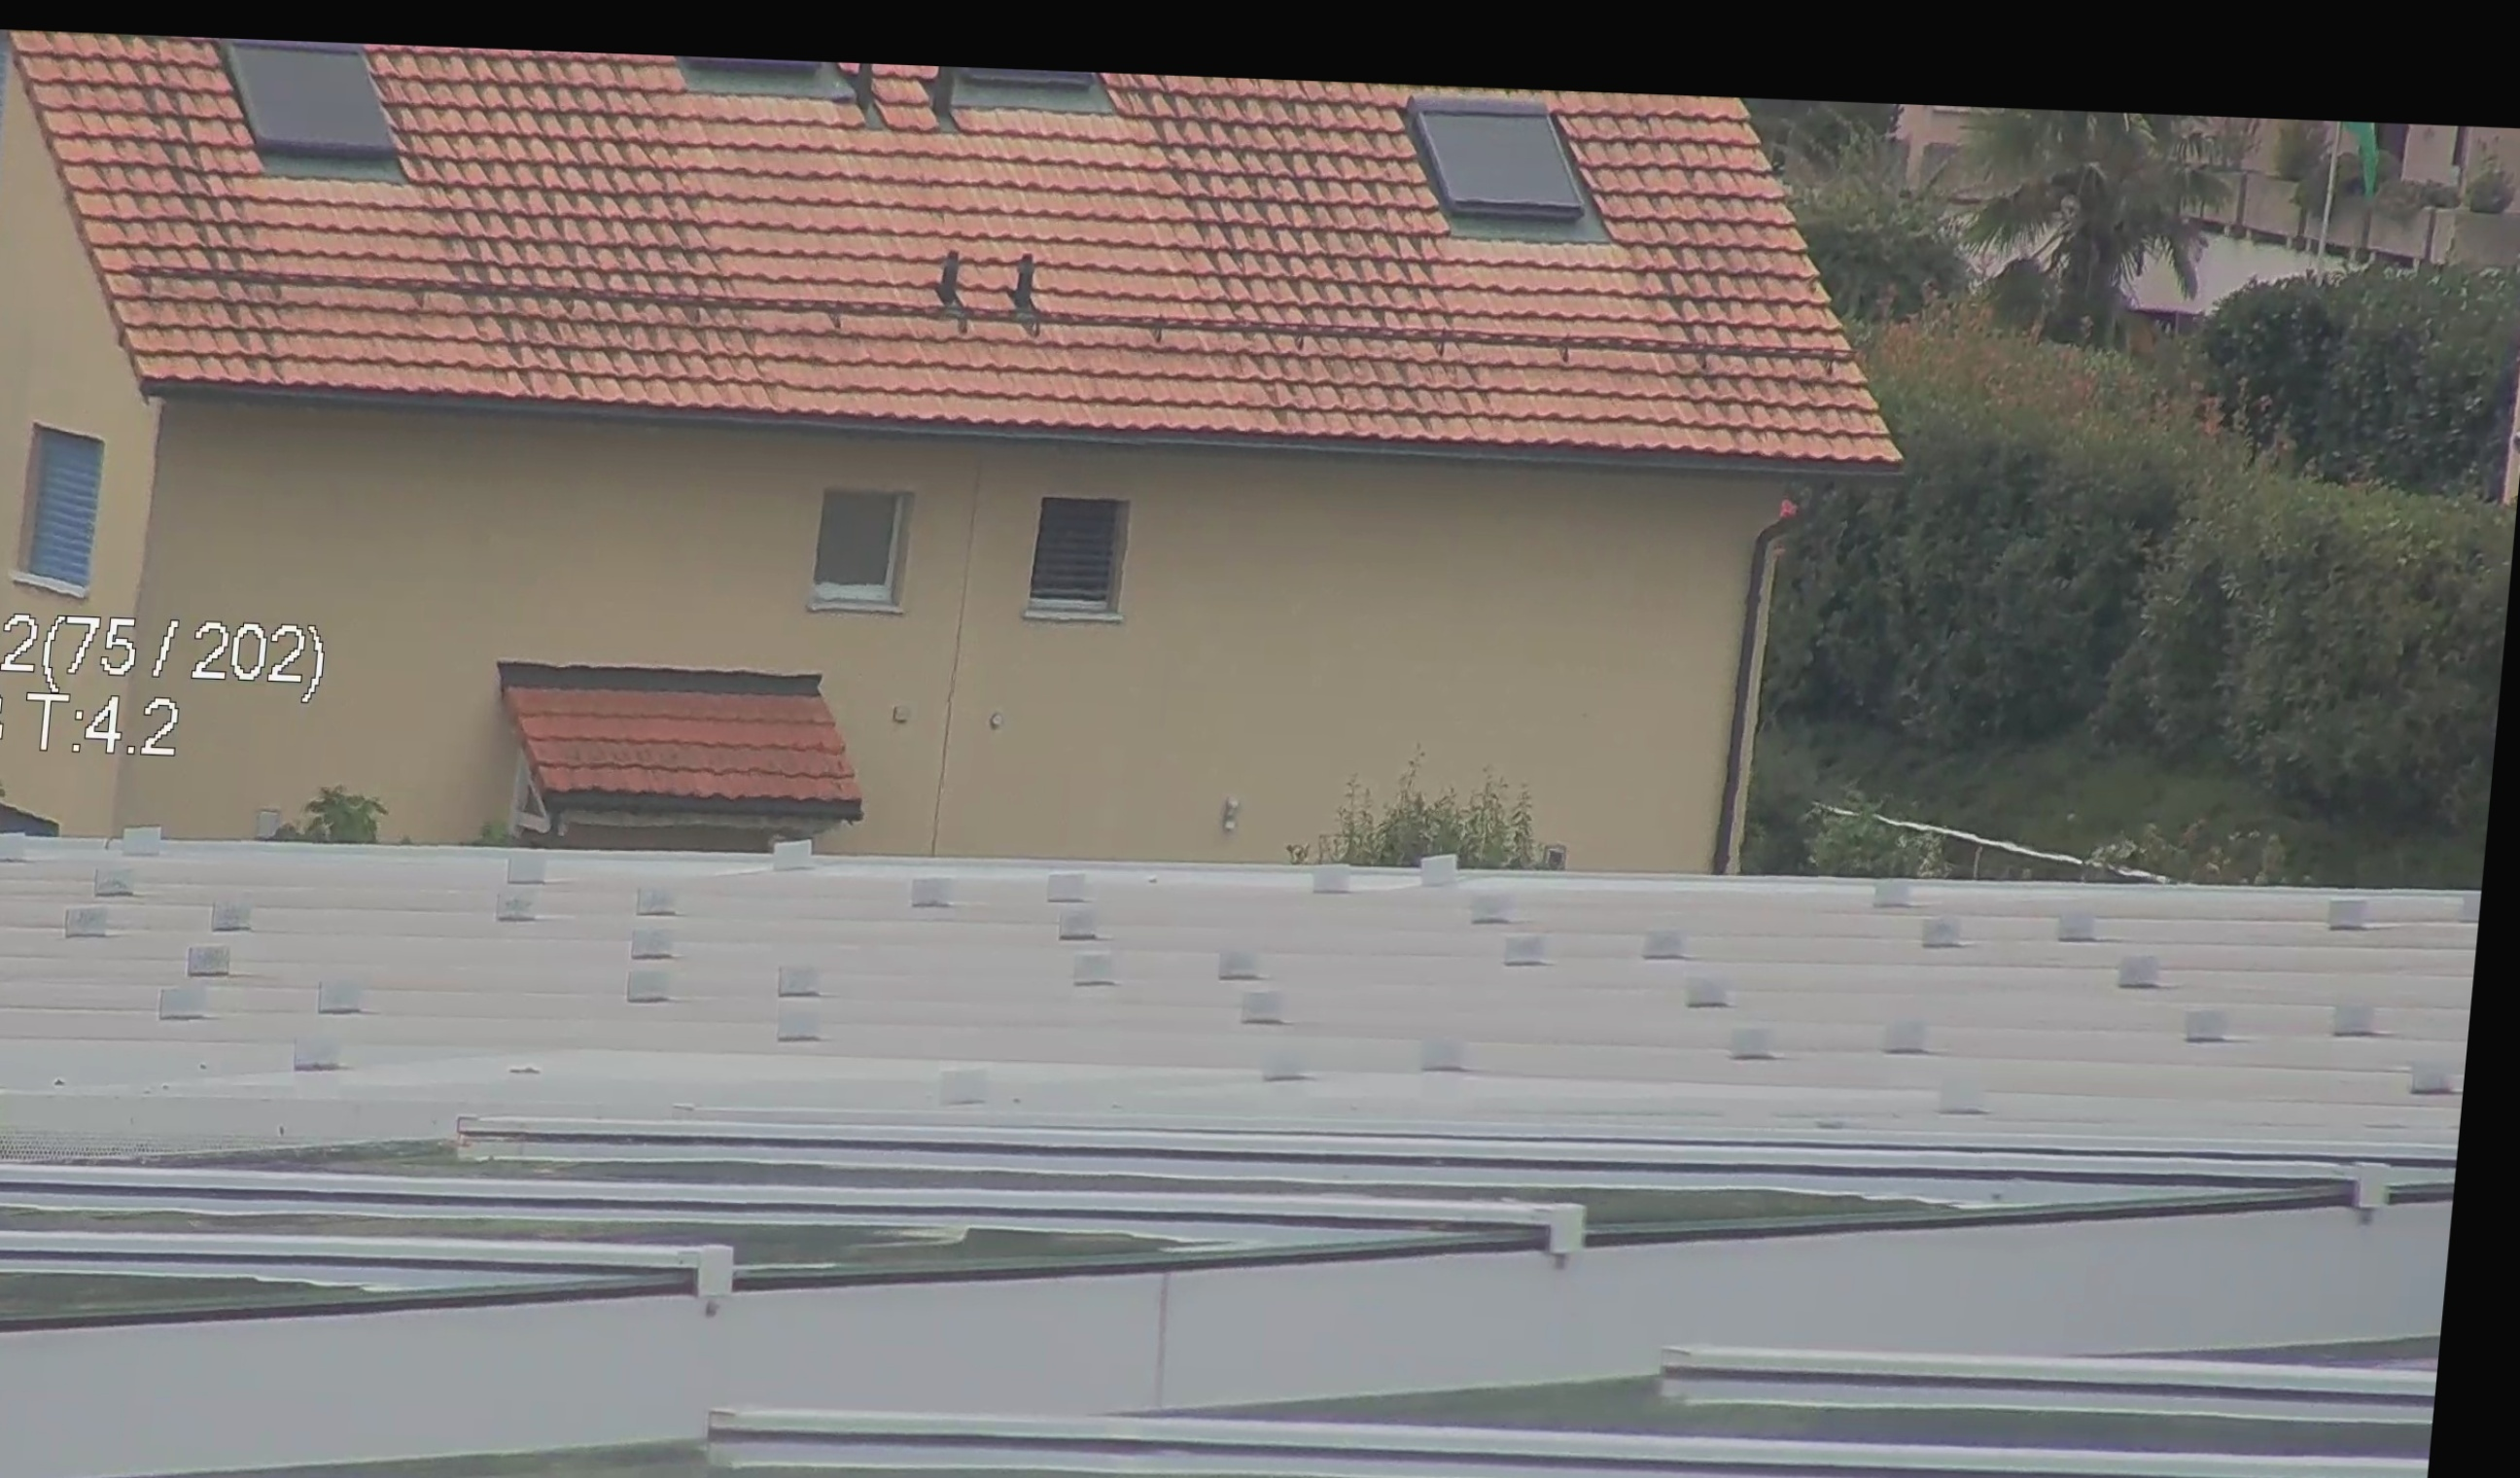Other: (0, 690, 4, 850)
